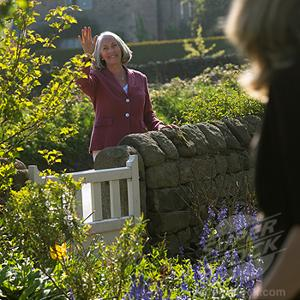person: (76, 25, 182, 164)
